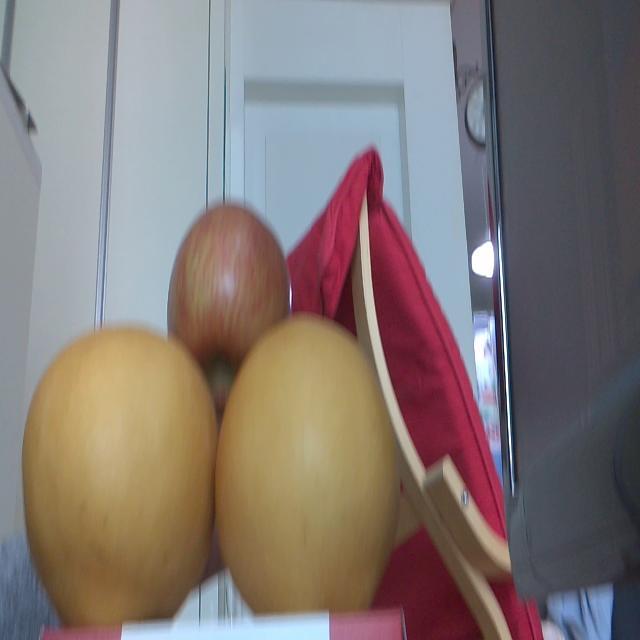apple: (166, 201, 292, 420)
pear: (19, 326, 216, 636), (216, 314, 402, 617)
